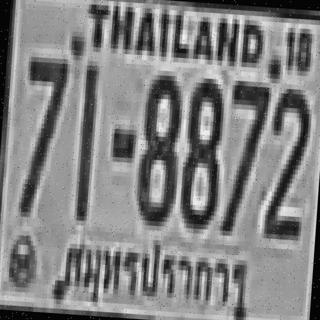N01: (72, 60, 97, 216)
N02: (261, 83, 311, 236)
N07: (17, 52, 67, 214), (220, 76, 270, 233)
N08: (132, 69, 182, 222), (178, 72, 225, 225)
P57: (58, 234, 252, 320)
